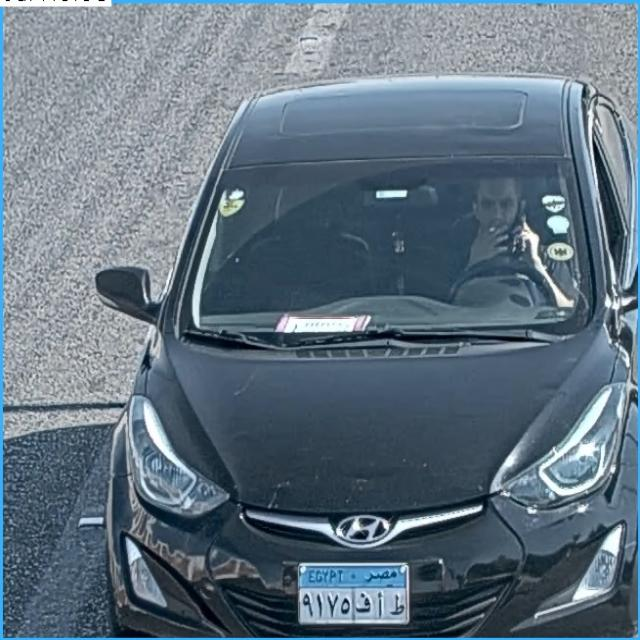windshield: (188, 171, 590, 344)
